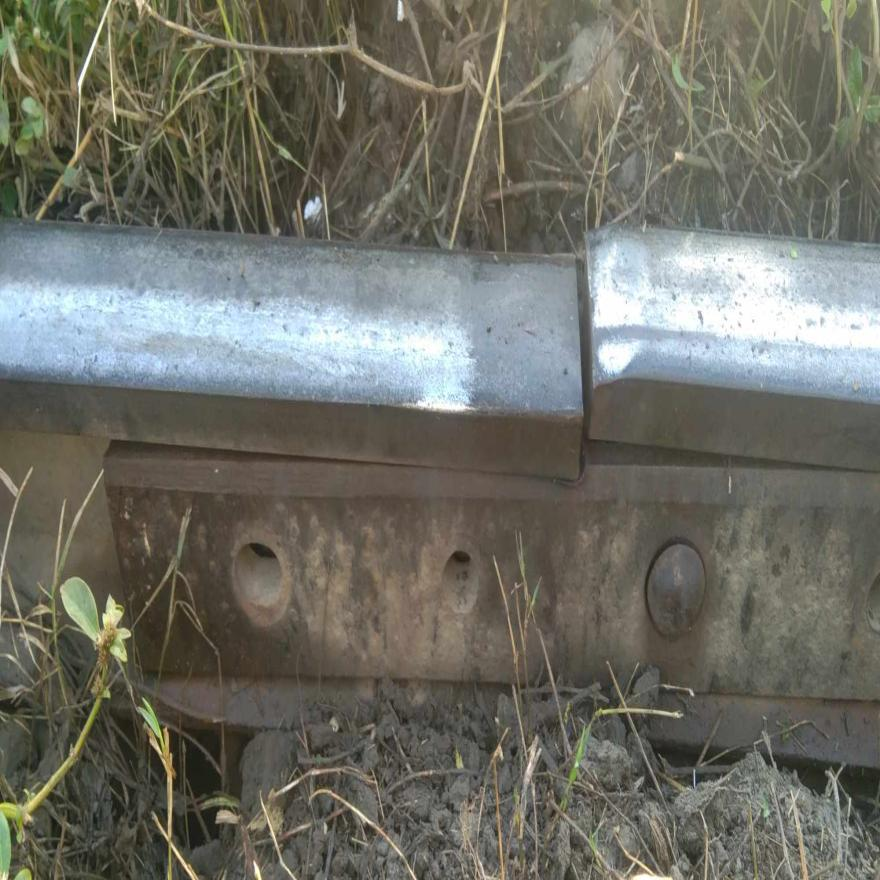railway-gap: (533, 209, 671, 489)
